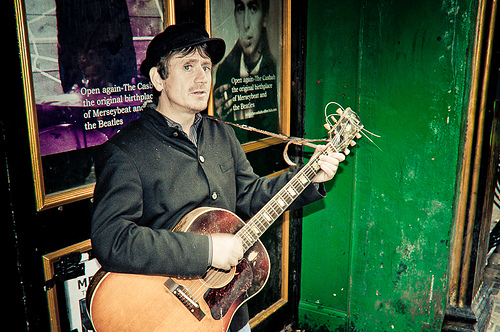guitar: (89, 106, 363, 332)
